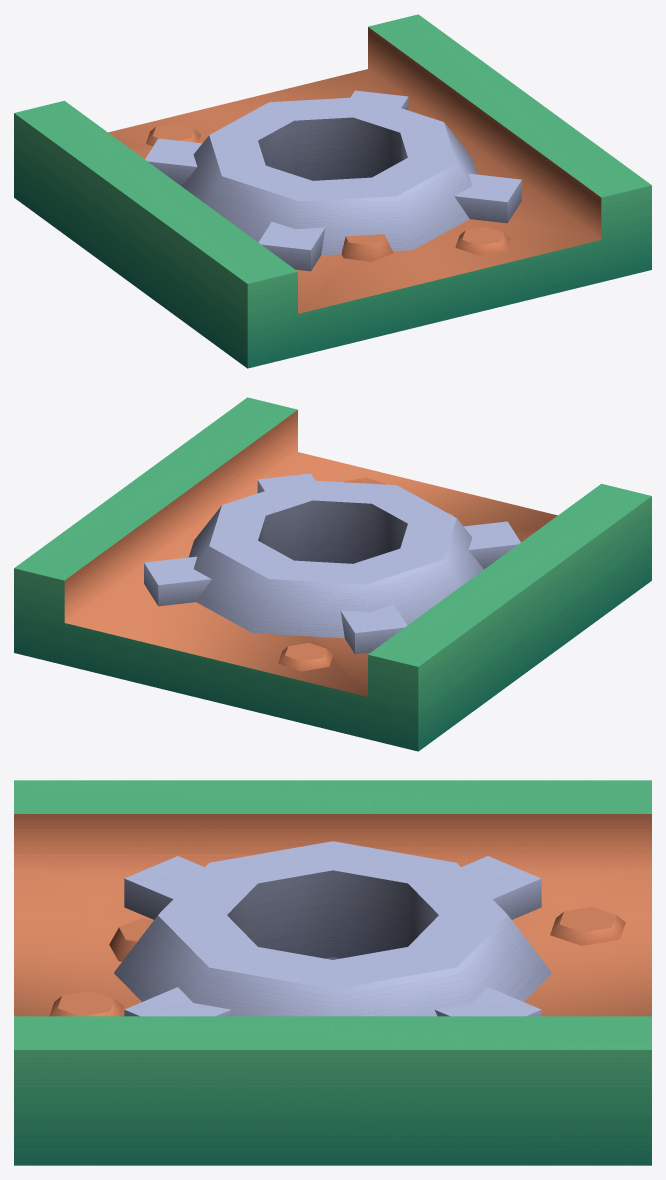
Rendered from tile-spawn-round.glb.
3 views of the same model, one above another, from view 1: azimuth 30°, elevation 25°; view 2: azimuth 150°, elevation 25°; view 3: azimuth 270°, elevation 25° (orthographic). The views are drawn at different scales.
Visible parts, largest first — view 1: tile-spawn-round; view 2: tile-spawn-round; view 3: tile-spawn-round.
Part boxes in pixels (x1,y1,x2,y2): tile-spawn-round: (14, 14, 651, 368); tile-spawn-round: (14, 397, 651, 751); tile-spawn-round: (14, 780, 651, 1165).
Size of the model in its own units: 1 by 0.2 by 1.
1 material, 1 textured.
